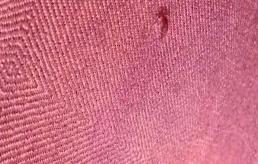knot: (154, 5, 176, 39)
